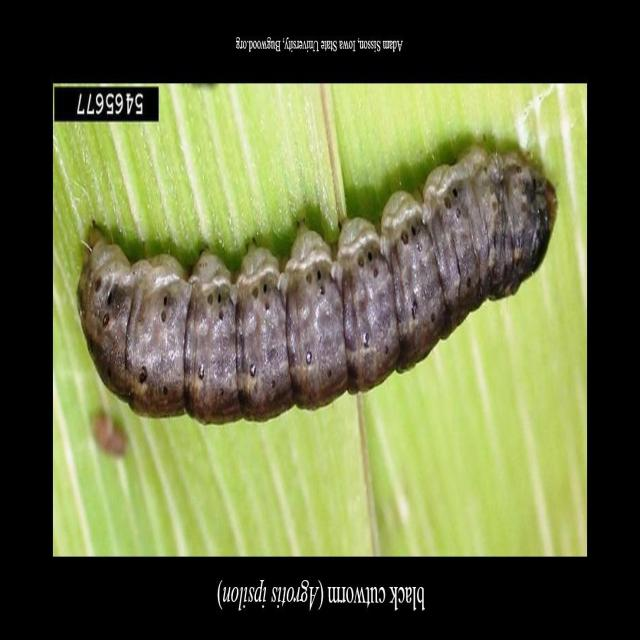black cutworm: (82, 150, 563, 440)
